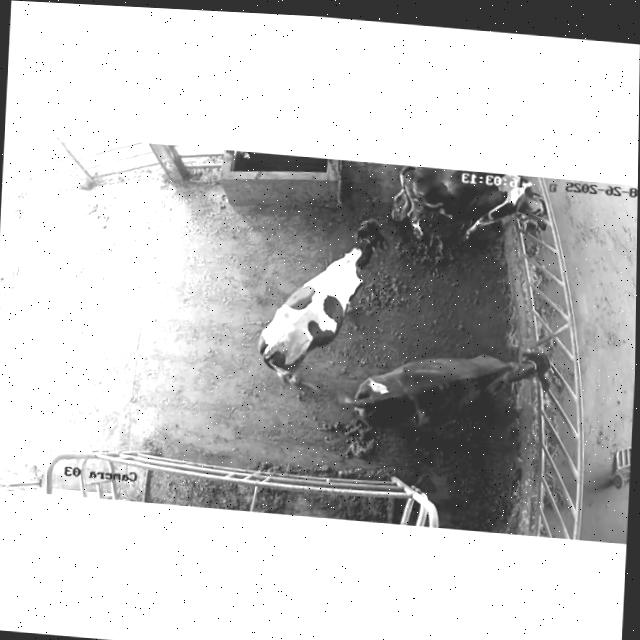stand: (226, 199, 396, 398)
